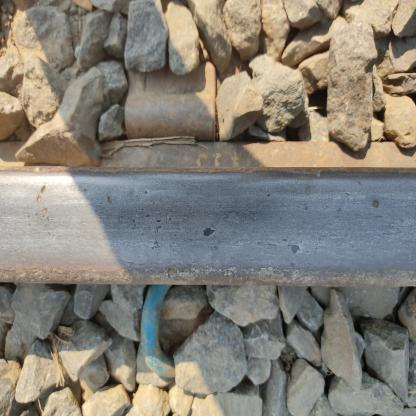Defective: (178, 234, 318, 400)
